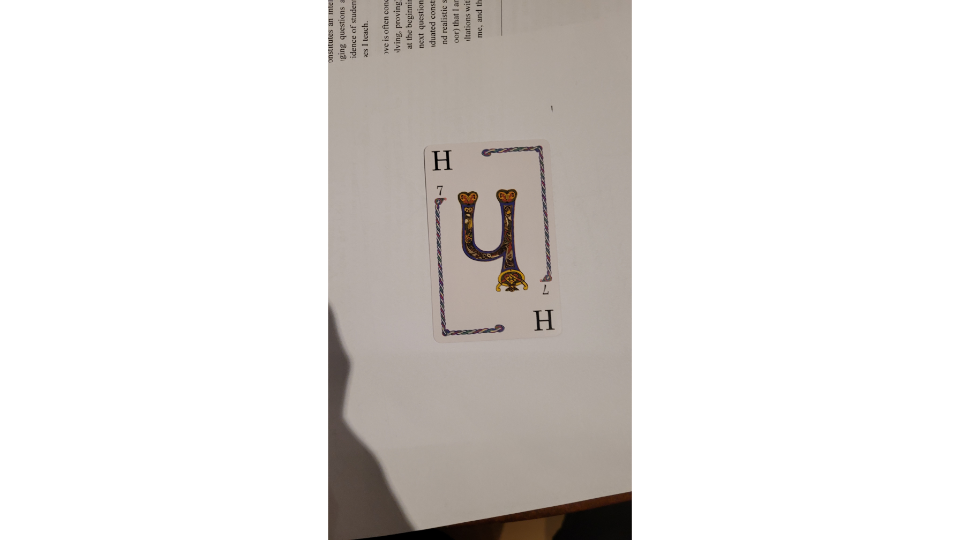H: (420, 137, 568, 346)
